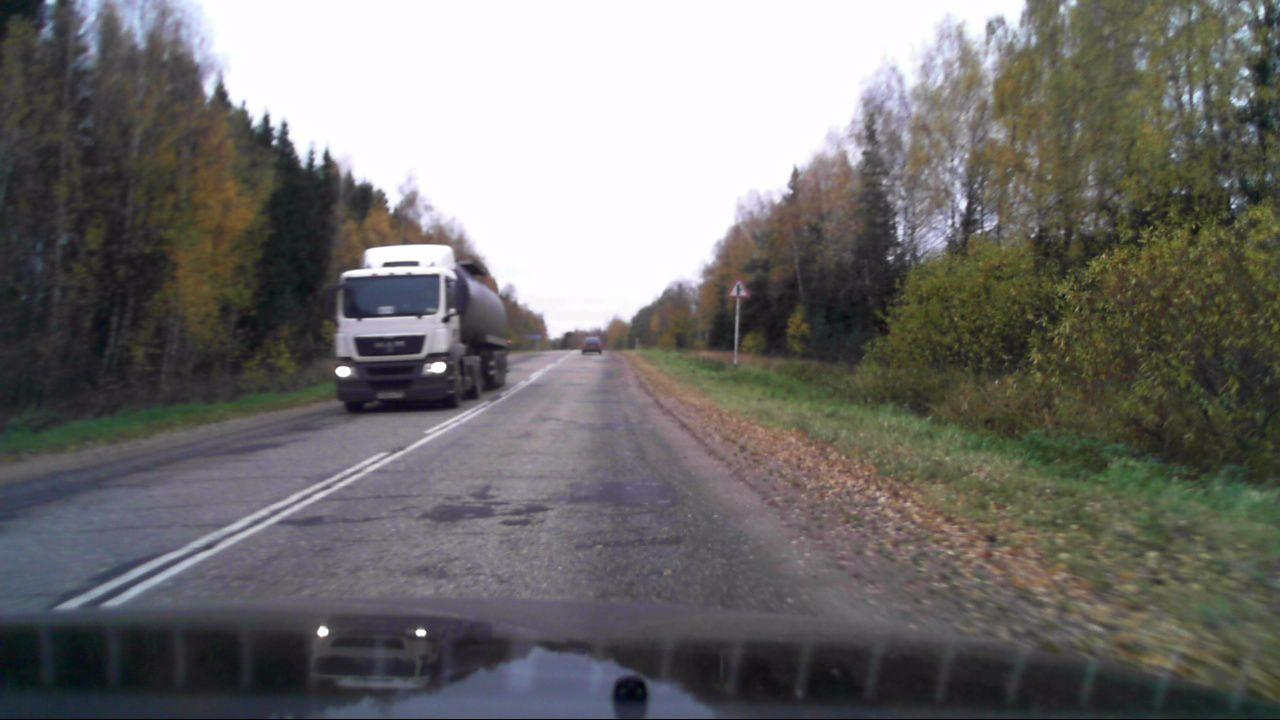road_sign: (726, 277, 752, 298)
